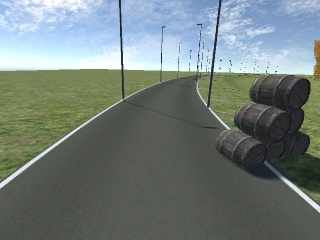Barriels: (213, 69, 320, 177)
